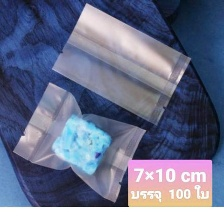snack: (7, 0, 196, 205)
